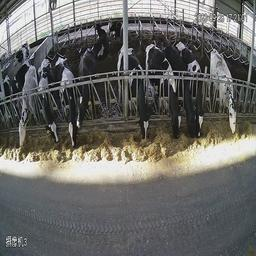cow: (147, 40, 180, 138), (116, 47, 149, 141), (208, 44, 237, 135), (38, 58, 58, 147), (57, 55, 76, 147), (17, 65, 37, 151), (76, 48, 94, 132), (181, 49, 195, 137), (195, 46, 204, 139), (92, 21, 109, 56), (10, 40, 29, 70), (110, 19, 122, 41)
